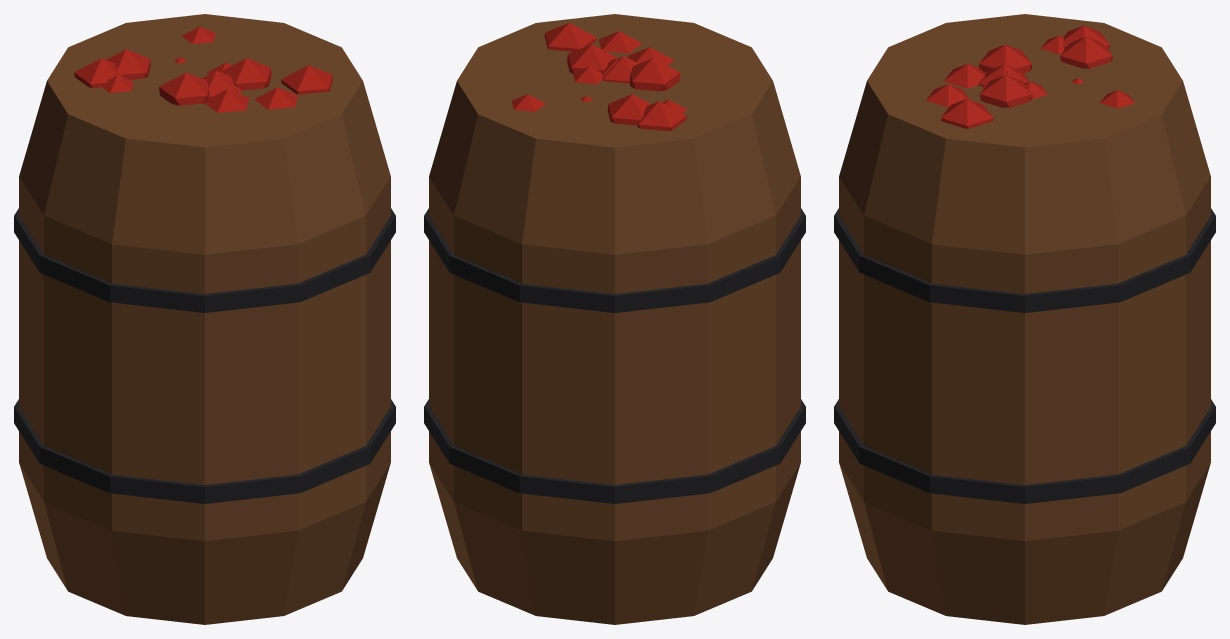
Rendered from SM_Barrel_Apples.obj.
The picture shows the model from 3 angles, left to right: view 1: azimuth 30°, elevation 25°; view 2: azimuth 150°, elevation 25°; view 3: azimuth 270°, elevation 25°; orthographic projection.
Parts seen in each view (by area): view 1: SM_Barrel_Apples; view 2: SM_Barrel_Apples; view 3: SM_Barrel_Apples.
Boxes of the visible parts, x1,y1,x2,y2 form: SM_Barrel_Apples: (14, 14, 395, 624); SM_Barrel_Apples: (424, 14, 805, 624); SM_Barrel_Apples: (834, 14, 1215, 624).
Bounding box in the file's own units: 0.616 × 0.8899 × 0.616.
